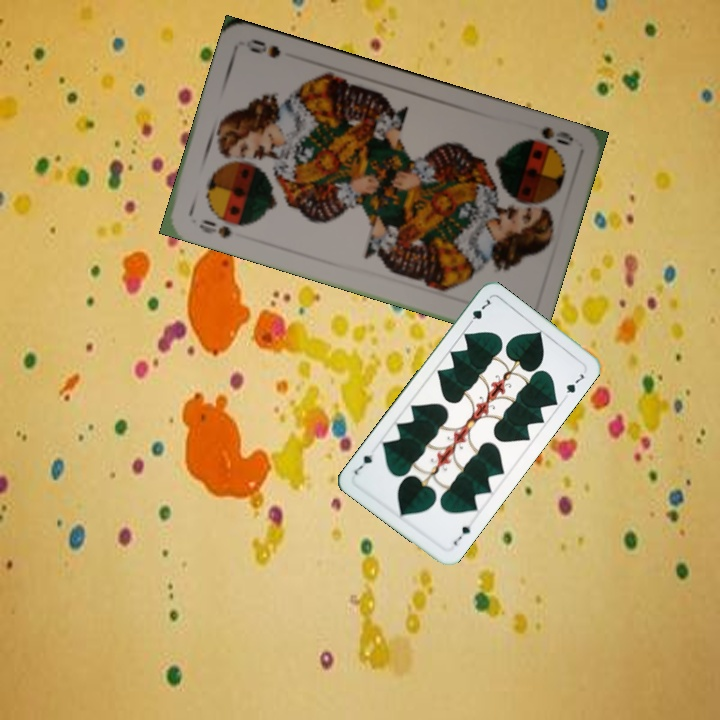G7: (463, 295, 494, 329), (449, 521, 473, 548)
SO: (518, 122, 576, 153), (195, 215, 234, 242)
